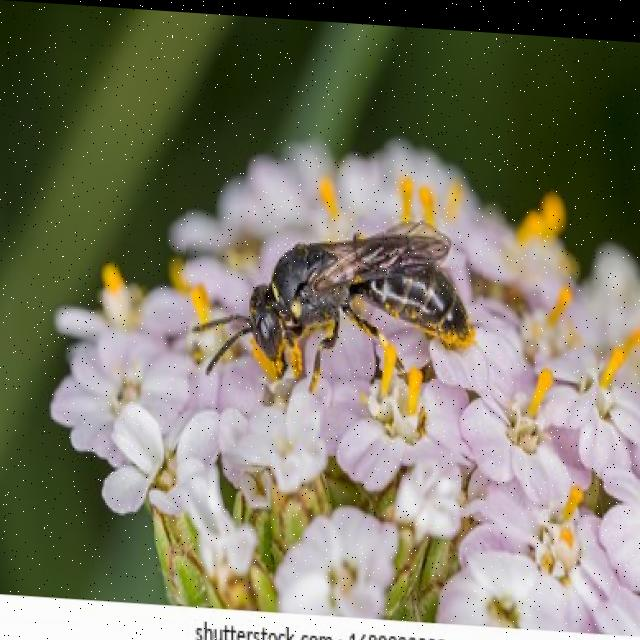Lasioglossum: (186, 199, 483, 409)
